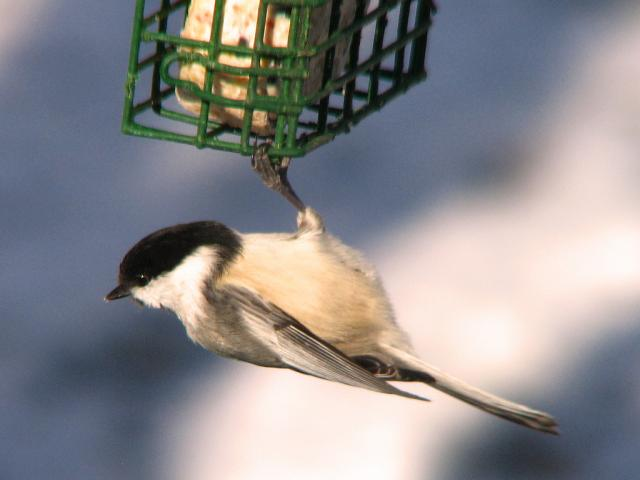Bird: (105, 134, 565, 437)
